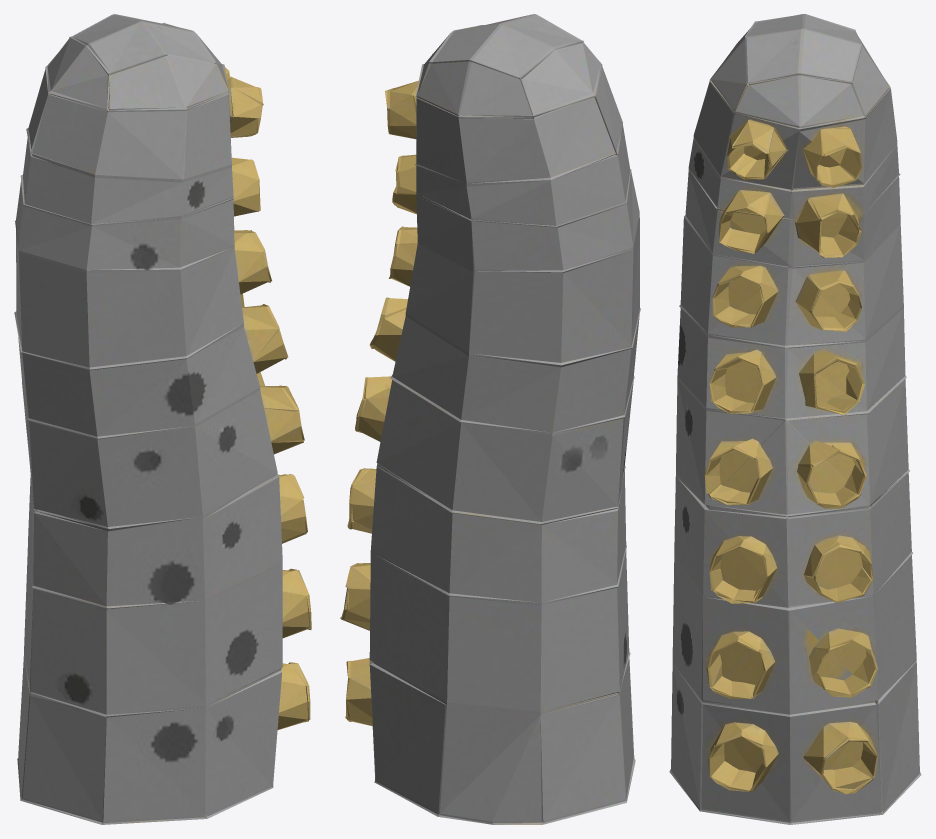
The model's file is kraken_tentacle.glb.
3 renders of one model, left to right at view 1: azimuth 30°, elevation 25°; view 2: azimuth 150°, elevation 25°; view 3: azimuth 270°, elevation 25°, orthographic.
Visible parts, largest first — view 1: tripo_node_7824f7cd-04cd-484c-bacb-fdc05858769d; view 2: tripo_node_7824f7cd-04cd-484c-bacb-fdc05858769d; view 3: tripo_node_7824f7cd-04cd-484c-bacb-fdc05858769d.
Boxes of the visible parts, box(x1,y1,x2,y2) form: tripo_node_7824f7cd-04cd-484c-bacb-fdc05858769d: box(14, 14, 311, 824); tripo_node_7824f7cd-04cd-484c-bacb-fdc05858769d: box(340, 14, 640, 824); tripo_node_7824f7cd-04cd-484c-bacb-fdc05858769d: box(669, 14, 921, 824).
Size of the model in its own units: 0.3691 by 0.998 by 0.3066.
Materials: 1 (1 with a texture image).
